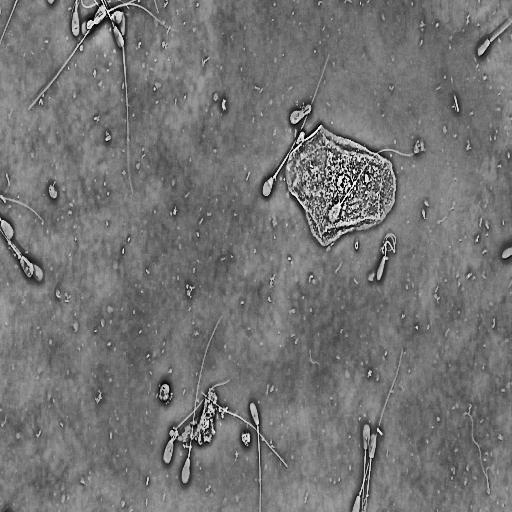coiled-tail: (383, 231, 398, 259), (302, 104, 312, 116)
dirt-particles: (285, 120, 399, 248), (177, 385, 219, 451), (46, 179, 59, 203), (158, 382, 171, 404), (240, 430, 252, 450)
folded-tail: (171, 380, 230, 443), (384, 233, 397, 246), (385, 235, 395, 246), (172, 430, 178, 442), (387, 247, 392, 252), (392, 246, 395, 252), (385, 250, 387, 257), (387, 243, 390, 247)
loose-tail: (200, 388, 290, 471), (459, 408, 498, 498)
normal: (261, 49, 333, 199), (26, 3, 108, 112), (180, 312, 224, 487), (161, 378, 231, 466), (117, 10, 130, 166), (475, 18, 512, 60), (249, 400, 262, 512), (375, 231, 398, 284), (364, 432, 378, 512), (360, 420, 371, 512), (289, 104, 312, 129)
